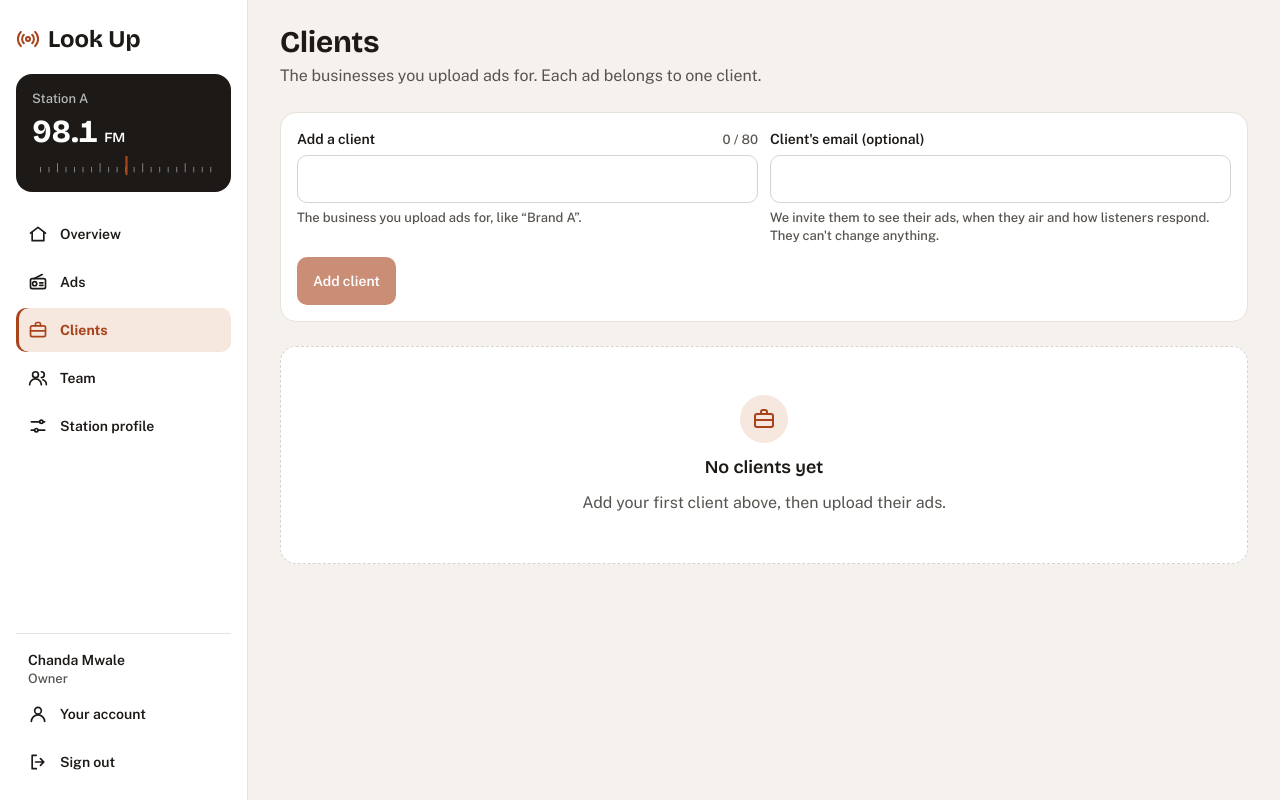
Test case: adding a client with an email (the station) › P5C-ONBOARDING-01: the client is added and invited in one step, and the toast says so
In the field labelled "Add a client": (528, 179) [297, 155, 758, 203], type "Brand A"
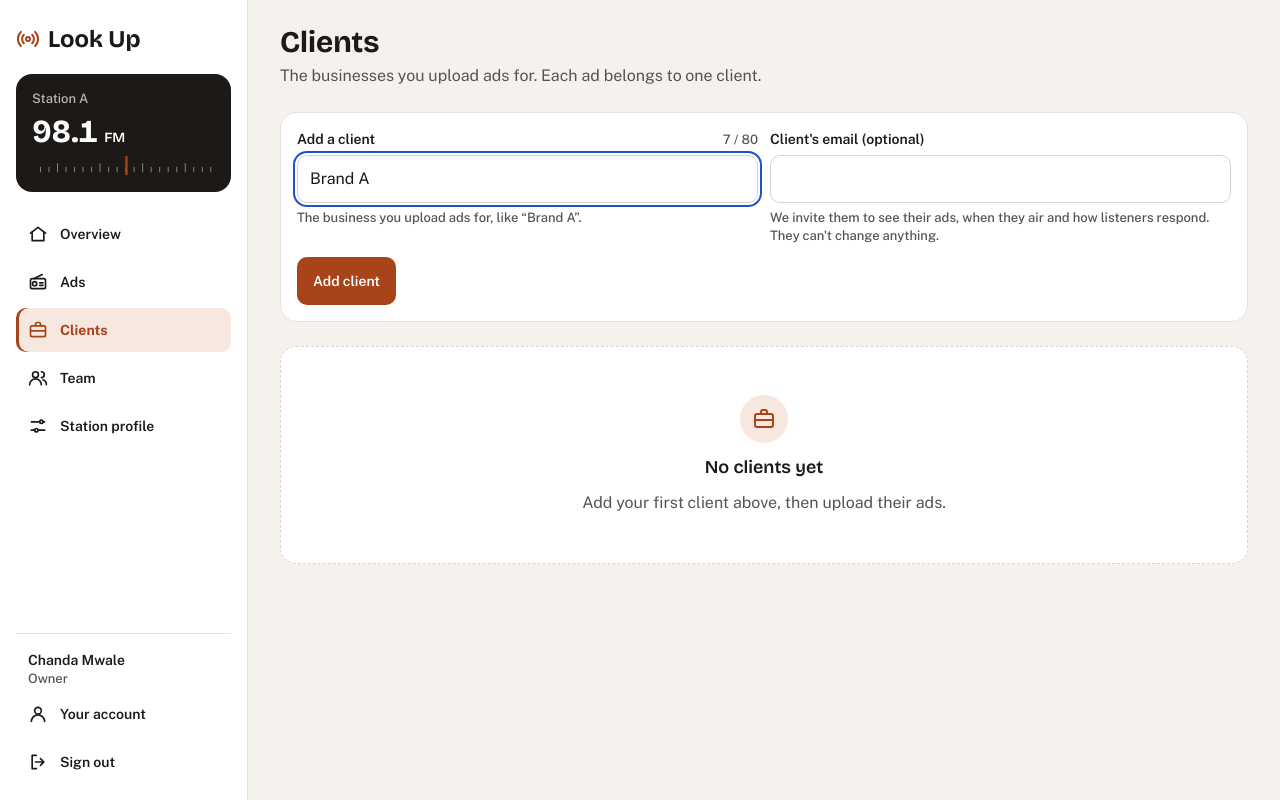
Expected: the button "Add client" is shown, [297, 257, 396, 305]
In the field labelled "Client's email (optional)": (1000, 179) [770, 155, 1231, 203], type "chipo@brand-a.example"
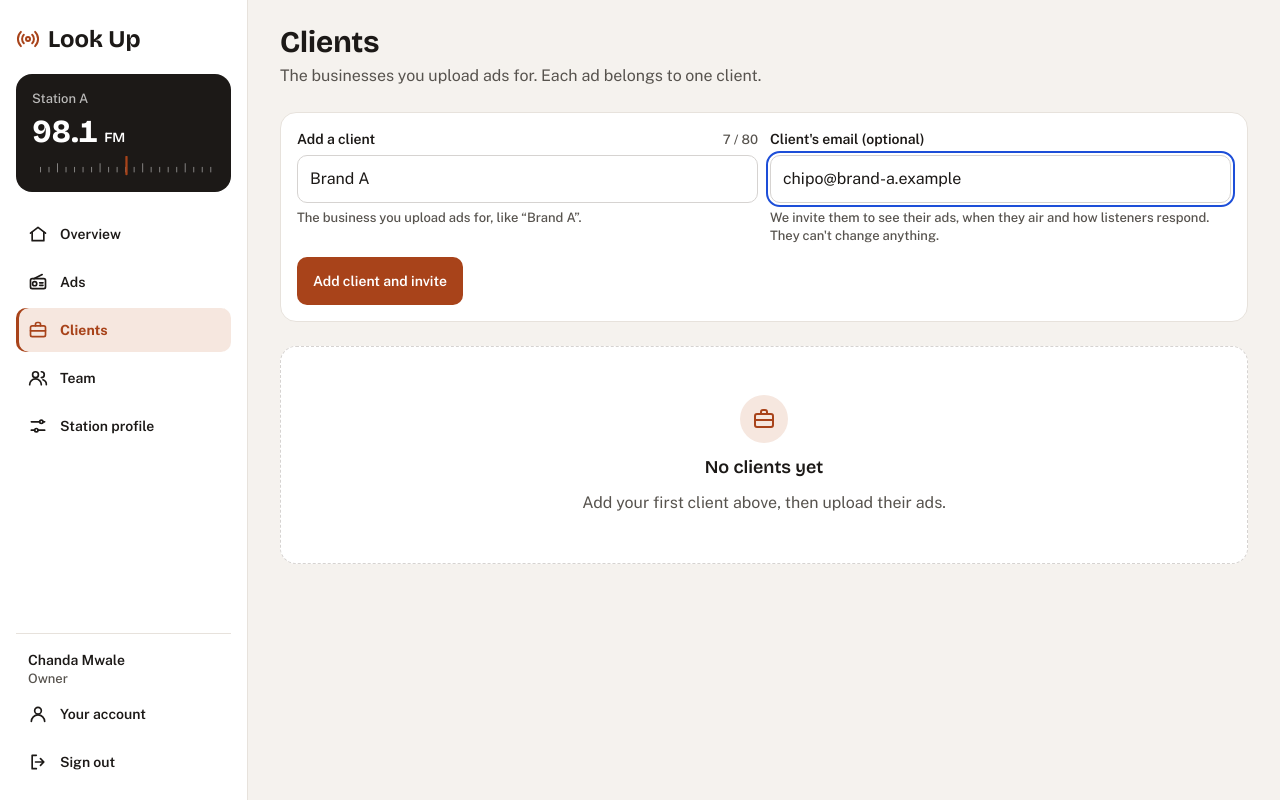
Click the button "Add client and invite": click(380, 281) [297, 257, 463, 305]
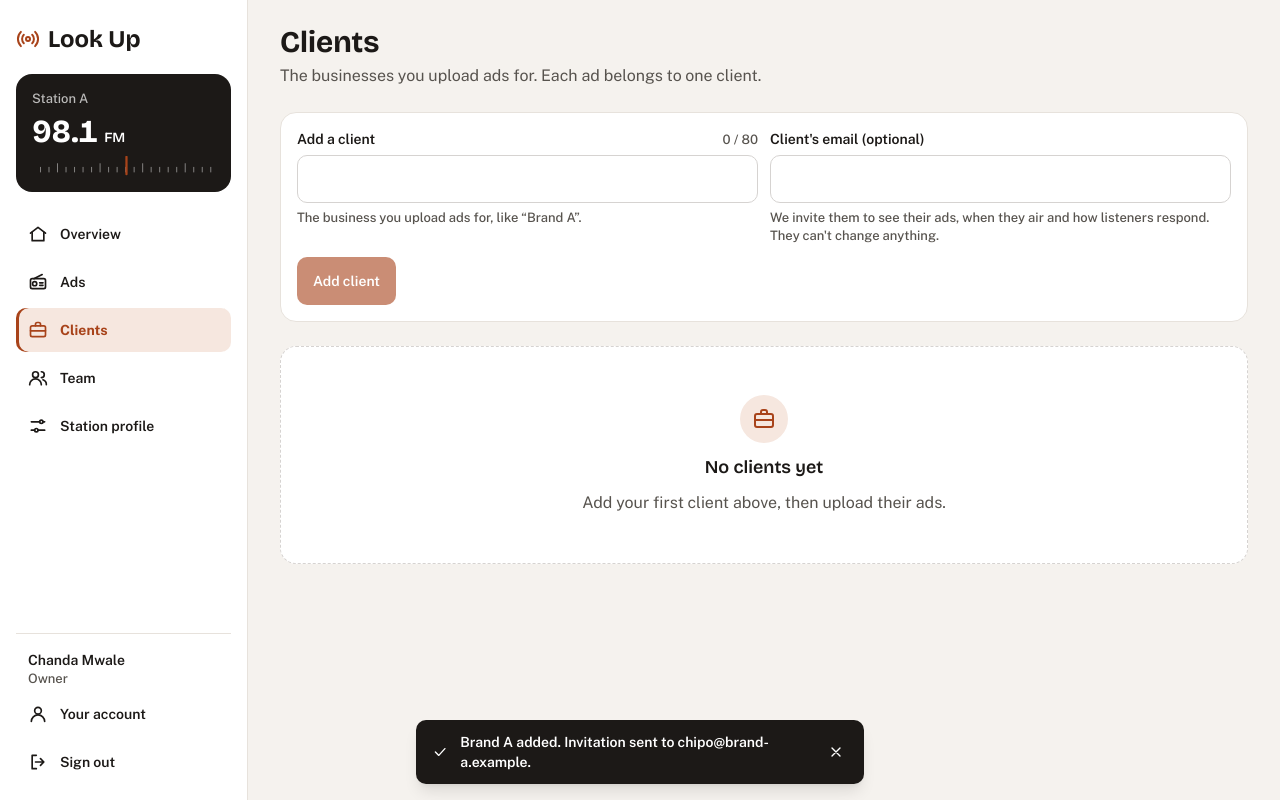
Expected: the text "Brand A added. Invitation sent to chipo@brand-a.example." is shown, [460, 732, 804, 772]
